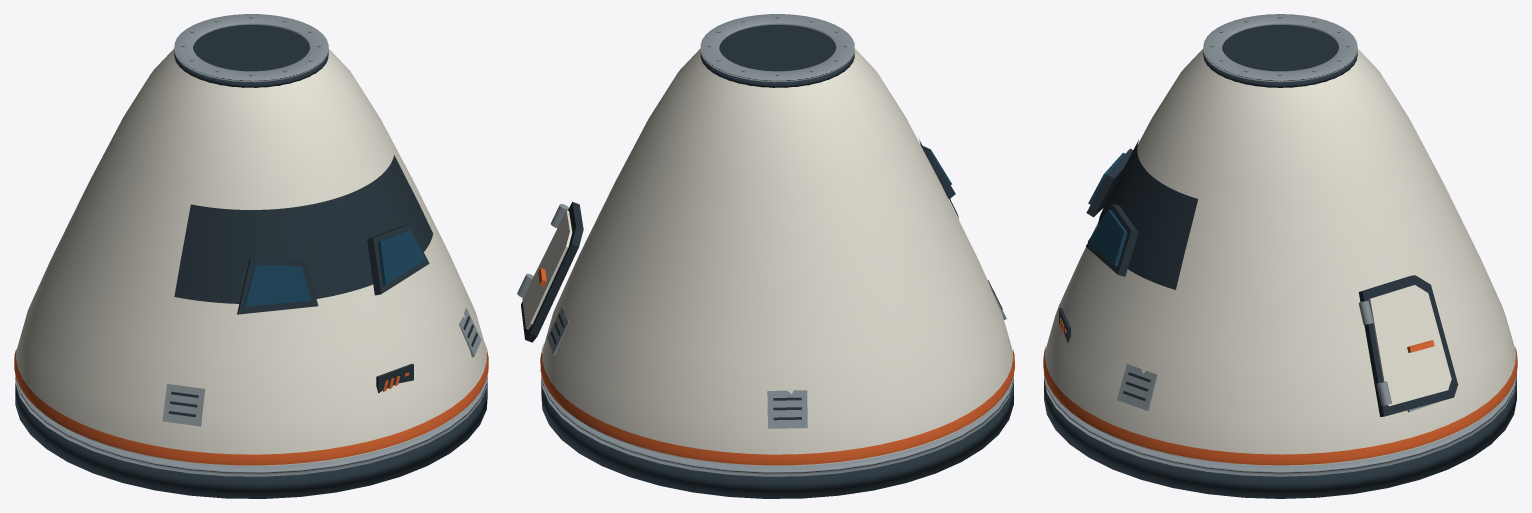
Rendered from pk_2_kontur.glb.
The picture shows the model from 3 angles, left to right: view 1: azimuth 30°, elevation 25°; view 2: azimuth 150°, elevation 25°; view 3: azimuth 270°, elevation 25°; orthographic projection.
Parts seen in each view (by area): view 1: pk_2_kontur.pressure_hull.mesh_JUGRE_·_bone_ceramic, pk_2_kontur.pressure_hull.mesh_JUGRE_·_graphite_composite, pk_2_kontur.mesh_JUGRE_·_graphite_composite, pk_2_kontur.mesh_JUGRE_·_bead-blasted_titanium, pk_2_kontur.pressure_hull.mesh_JUGRE_·_oxide_orange, pk_2_kontur.viewport_01.mesh_JUGRE_·_blue_viewport, pk_2_kontur.viewport_02.mesh_JUGRE_·_blue_viewport, pk_2_kontur.viewport_01.mesh_JUGRE_·_graphite_composite, pk_2_kontur.service_panel_04.mesh_JUGRE_·_bead-blasted_titan, pk_2_kontur.viewport_02.mesh_JUGRE_·_graphite_composite, pk_2_kontur.mark_0_19.mesh_JUGRE_·_graphite_composite; view 2: pk_2_kontur.pressure_hull.mesh_JUGRE_·_bone_ceramic, pk_2_kontur.mesh_JUGRE_·_graphite_composite, pk_2_kontur.mesh_JUGRE_·_bead-blasted_titanium, pk_2_kontur.pressure_hull.mesh_JUGRE_·_oxide_orange, pk_2_kontur.crew_hatch.skin.mesh_JUGRE_·_bone_ceramic, pk_2_kontur.crew_hatch.skin.mesh_JUGRE_·_graphite_composite, pk_2_kontur.service_panel_03.mesh_JUGRE_·_bead-blasted_titan; view 3: pk_2_kontur.pressure_hull.mesh_JUGRE_·_bone_ceramic, pk_2_kontur.mesh_JUGRE_·_graphite_composite, pk_2_kontur.mesh_JUGRE_·_bead-blasted_titanium, pk_2_kontur.pressure_hull.mesh_JUGRE_·_graphite_composite, pk_2_kontur.crew_hatch.skin.mesh_JUGRE_·_bone_ceramic, pk_2_kontur.pressure_hull.mesh_JUGRE_·_oxide_orange, pk_2_kontur.crew_hatch.skin.mesh_JUGRE_·_graphite_composite, pk_2_kontur.viewport_02.mesh_JUGRE_·_blue_viewport, pk_2_kontur.service_panel_01.mesh_JUGRE_·_bead-blasted_titan, pk_2_kontur.viewport_02.mesh_JUGRE_·_graphite_composite, pk_2_kontur.viewport_01.mesh_JUGRE_·_graphite_composite, pk_2_kontur.crew_hatch.skin.mesh_JUGRE_·_bead-blasted_titani.
Part boxes in pixels (left/top/right/bottom): pk_2_kontur.pressure_hull.mesh_JUGRE_·_bone_ceramic: left=16, top=48, right=486, bottom=466; pk_2_kontur.pressure_hull.mesh_JUGRE_·_graphite_composite: left=174, top=155, right=433, bottom=303; pk_2_kontur.mesh_JUGRE_·_graphite_composite: left=15, top=24, right=487, bottom=498; pk_2_kontur.mesh_JUGRE_·_bead-blasted_titanium: left=15, top=14, right=487, bottom=476; pk_2_kontur.pressure_hull.mesh_JUGRE_·_oxide_orange: left=14, top=343, right=488, bottom=465; pk_2_kontur.viewport_01.mesh_JUGRE_·_blue_viewport: left=244, top=264, right=311, bottom=306; pk_2_kontur.viewport_02.mesh_JUGRE_·_blue_viewport: left=377, top=230, right=425, bottom=285; pk_2_kontur.viewport_01.mesh_JUGRE_·_graphite_composite: left=237, top=258, right=318, bottom=314; pk_2_kontur.service_panel_04.mesh_JUGRE_·_bead-blasted_titan: left=162, top=384, right=204, bottom=426; pk_2_kontur.viewport_02.mesh_JUGRE_·_graphite_composite: left=367, top=224, right=429, bottom=295; pk_2_kontur.mark_0_19.mesh_JUGRE_·_graphite_composite: left=376, top=363, right=413, bottom=393; pk_2_kontur.pressure_hull.mesh_JUGRE_·_bone_ceramic: left=542, top=48, right=1013, bottom=466; pk_2_kontur.mesh_JUGRE_·_graphite_composite: left=541, top=24, right=1013, bottom=498; pk_2_kontur.mesh_JUGRE_·_bead-blasted_titanium: left=541, top=14, right=1013, bottom=476; pk_2_kontur.pressure_hull.mesh_JUGRE_·_oxide_orange: left=540, top=344, right=1014, bottom=465; pk_2_kontur.crew_hatch.skin.mesh_JUGRE_·_bone_ceramic: left=522, top=210, right=572, bottom=329; pk_2_kontur.crew_hatch.skin.mesh_JUGRE_·_graphite_composite: left=521, top=202, right=583, bottom=342; pk_2_kontur.service_panel_03.mesh_JUGRE_·_bead-blasted_titan: left=767, top=390, right=807, bottom=428; pk_2_kontur.pressure_hull.mesh_JUGRE_·_bone_ceramic: left=1045, top=49, right=1515, bottom=466; pk_2_kontur.mesh_JUGRE_·_graphite_composite: left=1044, top=25, right=1516, bottom=498; pk_2_kontur.mesh_JUGRE_·_bead-blasted_titanium: left=1044, top=14, right=1516, bottom=476; pk_2_kontur.pressure_hull.mesh_JUGRE_·_graphite_composite: left=1098, top=140, right=1198, bottom=289; pk_2_kontur.crew_hatch.skin.mesh_JUGRE_·_bone_ceramic: left=1369, top=285, right=1451, bottom=406; pk_2_kontur.pressure_hull.mesh_JUGRE_·_oxide_orange: left=1043, top=346, right=1517, bottom=465; pk_2_kontur.crew_hatch.skin.mesh_JUGRE_·_graphite_composite: left=1358, top=275, right=1458, bottom=416; pk_2_kontur.viewport_02.mesh_JUGRE_·_blue_viewport: left=1088, top=209, right=1127, bottom=266; pk_2_kontur.service_panel_01.mesh_JUGRE_·_bead-blasted_titan: left=1117, top=364, right=1157, bottom=410; pk_2_kontur.viewport_02.mesh_JUGRE_·_graphite_composite: left=1086, top=203, right=1138, bottom=276; pk_2_kontur.viewport_01.mesh_JUGRE_·_graphite_composite: left=1086, top=148, right=1132, bottom=217; pk_2_kontur.crew_hatch.skin.mesh_JUGRE_·_bead-blasted_titani: left=1358, top=300, right=1391, bottom=405.
Size of the model in its own units: 2.52 by 2.06 by 2.51.
